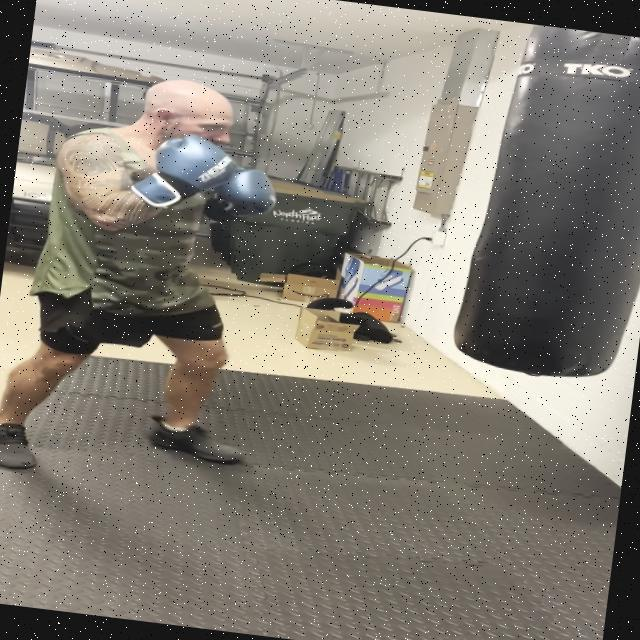bag: (459, 20, 640, 391)
no punch: (37, 62, 303, 255)
